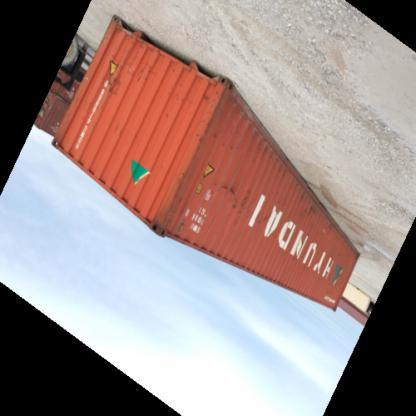Damage: (152, 170, 194, 238), (209, 182, 258, 222), (181, 76, 228, 111), (282, 195, 320, 226), (204, 128, 240, 156), (247, 134, 277, 166), (101, 69, 125, 99)
